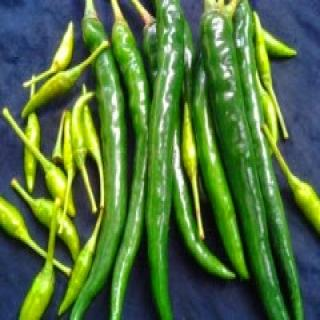Cabai Hijau: (70, 1, 320, 320)
